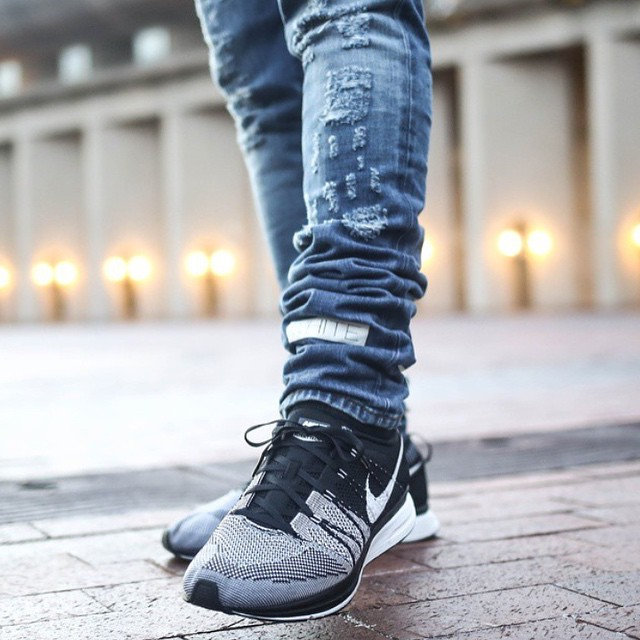sneaker: (165, 364, 444, 640), (377, 407, 463, 547), (156, 454, 257, 573)
